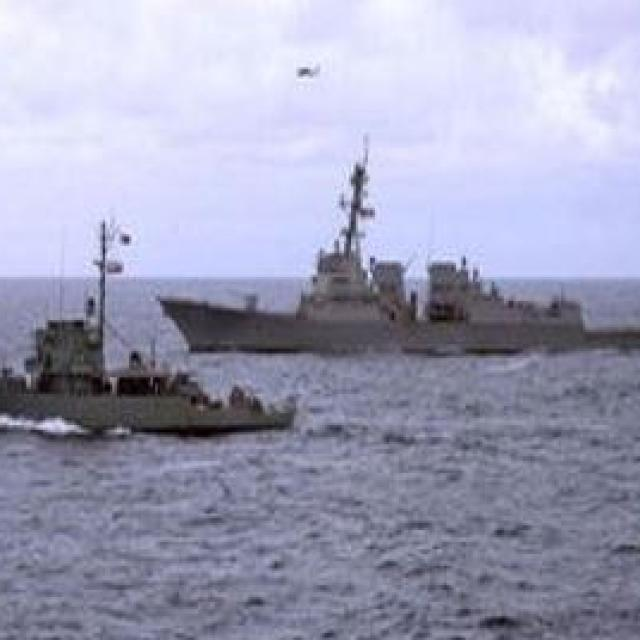navalvessels: (158, 131, 640, 350), (0, 251, 299, 432)
